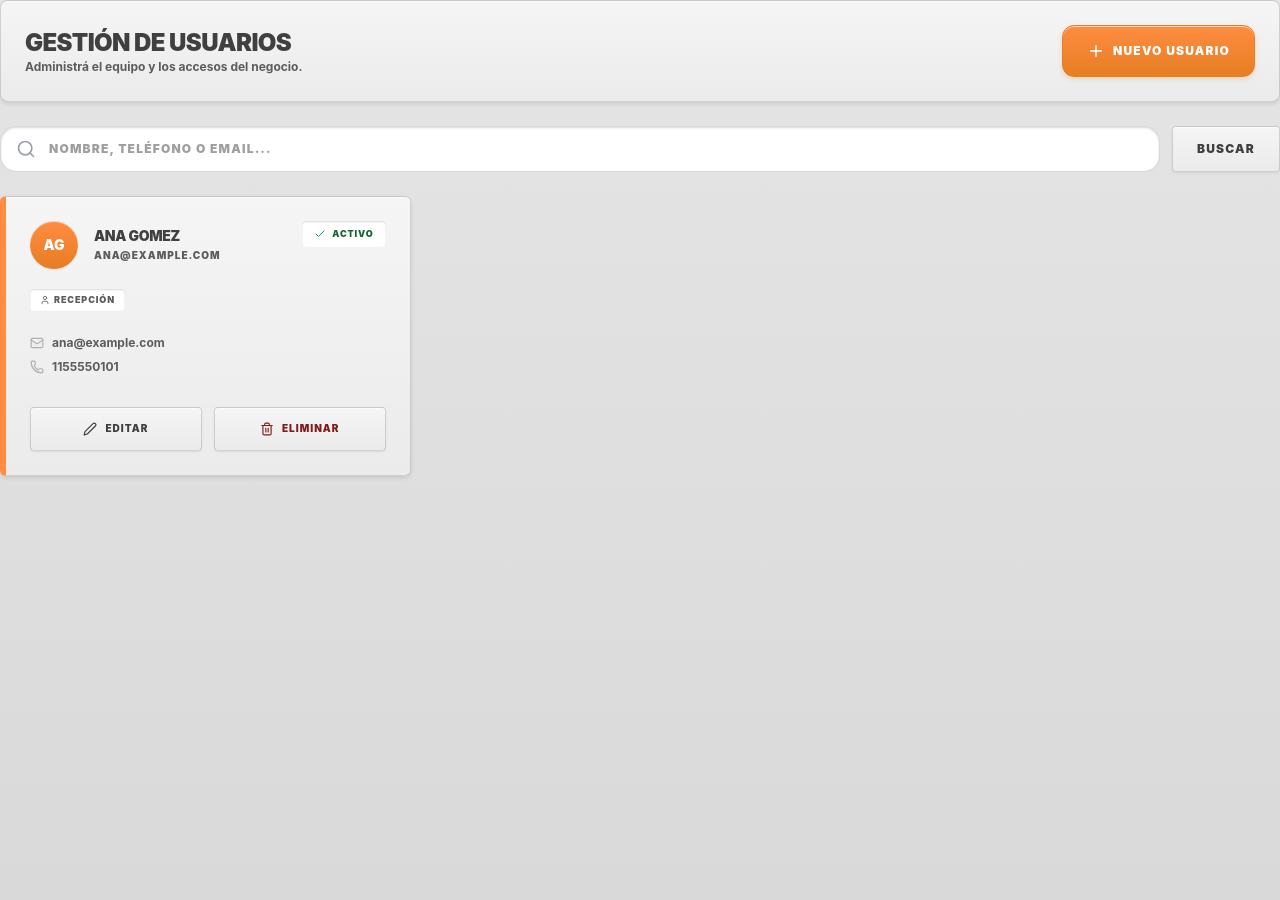
Test: UserManagementContainer › un 409 al crear muestra el texto neutro, no el del servidor
The image size is (1280, 900).
Step 1. Click the button "NUEVO USUARIO" → (1158, 51), box [1062,25,1255,77]
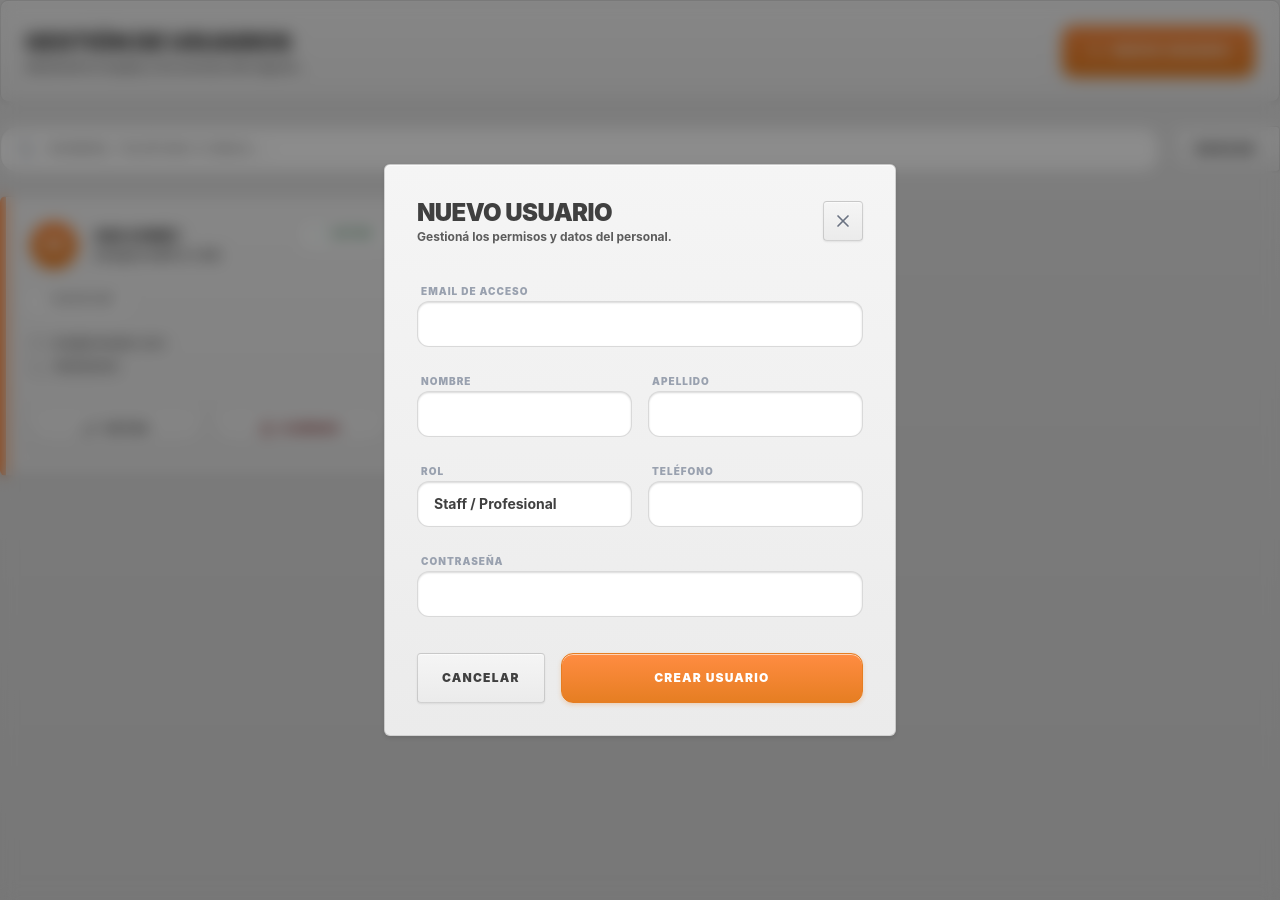
Step 2. Submit the form "Crear Usuario", box [417,277,863,703]
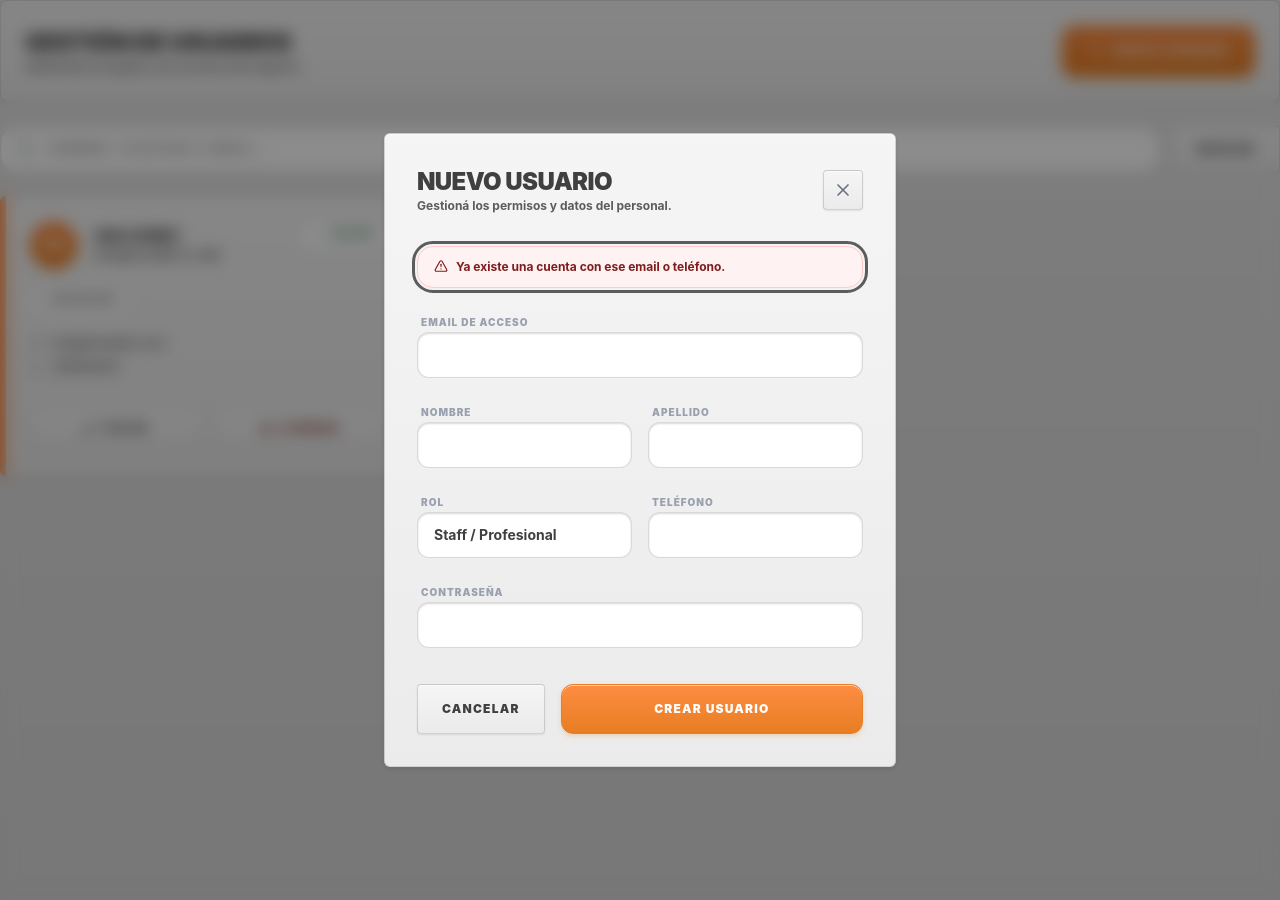
Check: the message reads "Ya existe una cuenta con ese email o teléfono.", box [456,259,725,274]
